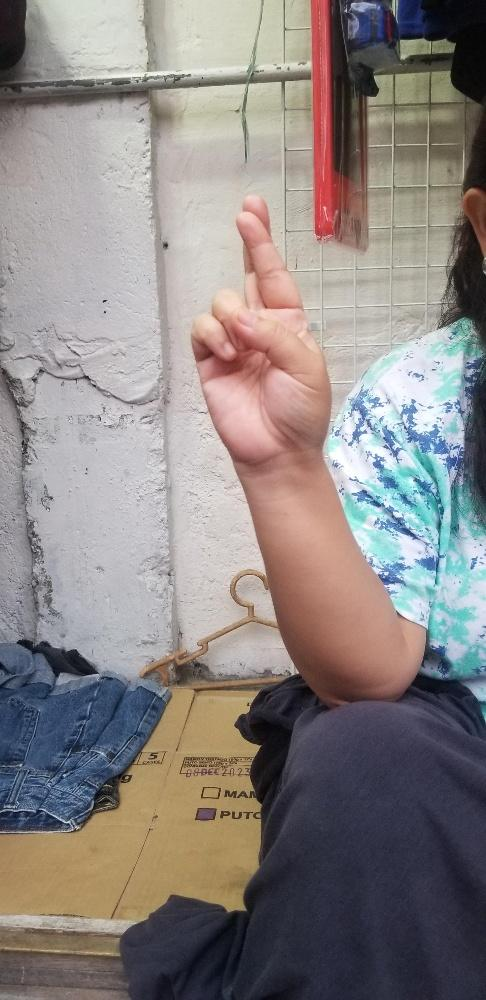r: (188, 194, 333, 462)
